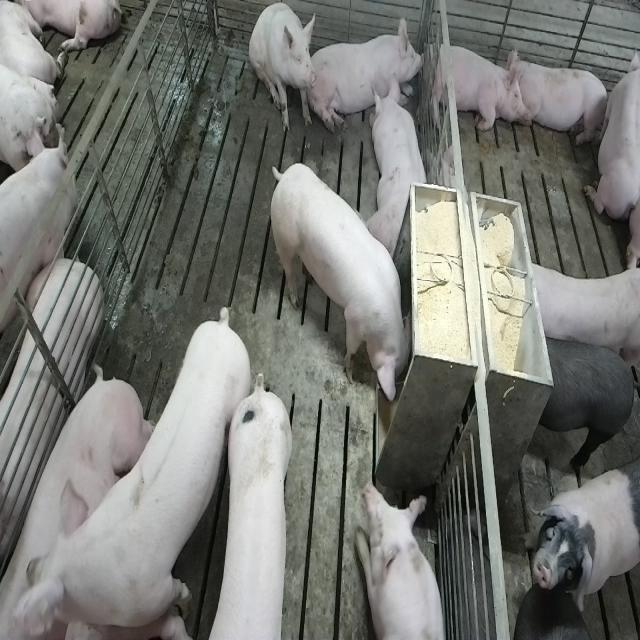Feeding: (265, 161, 410, 405)
Lateral_lying: (0, 370, 157, 640), (0, 256, 104, 584)
Sitting: (249, 4, 318, 137)
Standing: (32, 296, 254, 636), (216, 379, 294, 640), (0, 125, 78, 362), (526, 335, 637, 477), (529, 465, 637, 608), (521, 256, 637, 369)
Sternal_lying: (358, 477, 447, 640), (314, 14, 424, 134), (370, 78, 431, 261), (509, 50, 611, 149), (584, 36, 638, 223), (425, 38, 523, 136)
